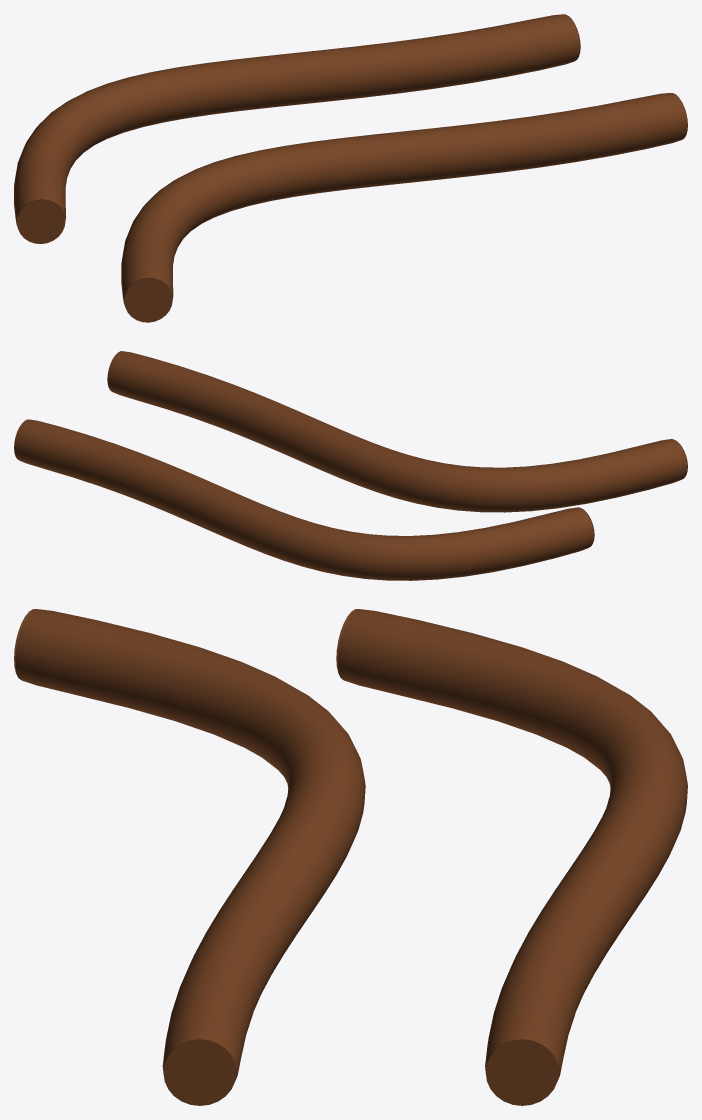
File: Handle2.fbx
3 views of the same model, one above another, from view 1: azimuth 30°, elevation 25°; view 2: azimuth 150°, elevation 25°; view 3: azimuth 270°, elevation 25° (orthographic). The views are drawn at different scales.
Parts seen in each view (by area): view 1: BezierCurve, BezierCurve.001; view 2: BezierCurve, BezierCurve.001; view 3: BezierCurve, BezierCurve.001.
Part boxes in pixels (x1,y1,x2,y2): BezierCurve: (14, 14, 580, 243); BezierCurve.001: (121, 93, 687, 322); BezierCurve: (14, 419, 594, 580); BezierCurve.001: (107, 351, 687, 512); BezierCurve: (336, 609, 687, 1105); BezierCurve.001: (14, 609, 365, 1105).
Size of the model in its own units: 205 by 15.29 by 132.
